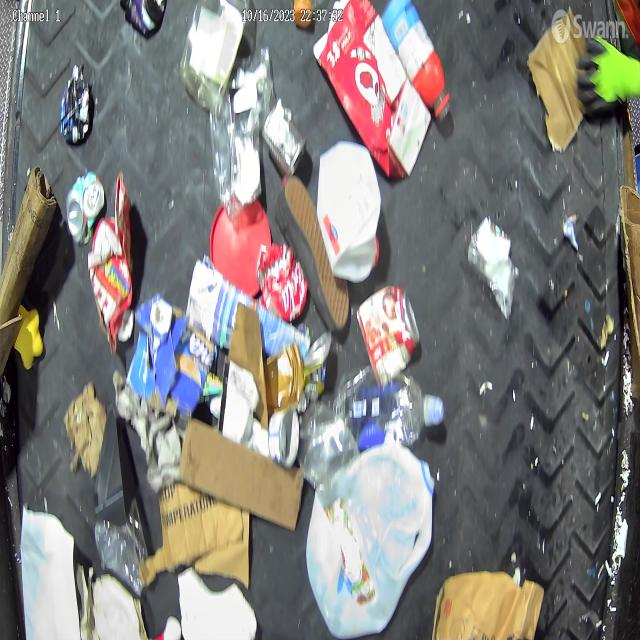can: (356, 283, 422, 387), (256, 242, 310, 323), (262, 98, 306, 174), (67, 170, 107, 242), (304, 328, 332, 402), (267, 404, 298, 468)
milk_jug: (308, 443, 436, 637), (318, 142, 384, 286), (19, 508, 79, 639)
non_white_jug: (312, 0, 432, 179)
plastic_bottle: (324, 367, 442, 455)
